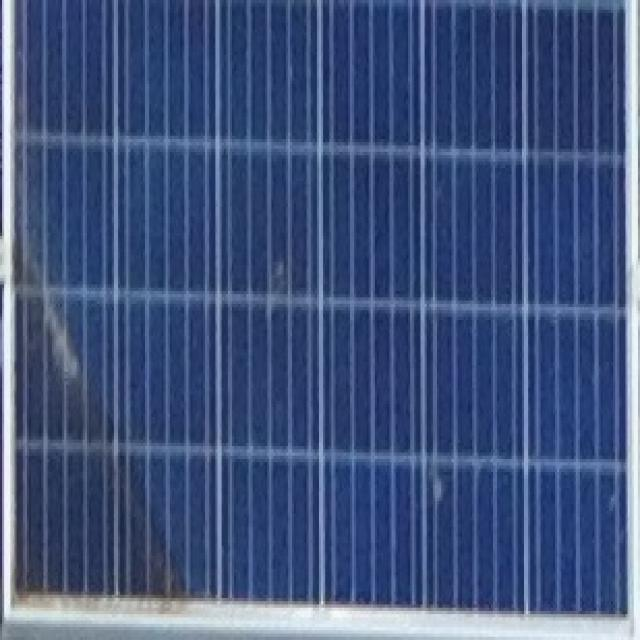Dust: (1, 212, 192, 621)
bird-droppings: (270, 250, 292, 296), (428, 468, 452, 508)
